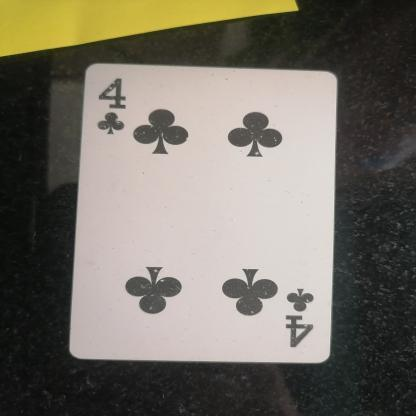4C: (266, 272, 335, 352), (90, 72, 142, 146)
